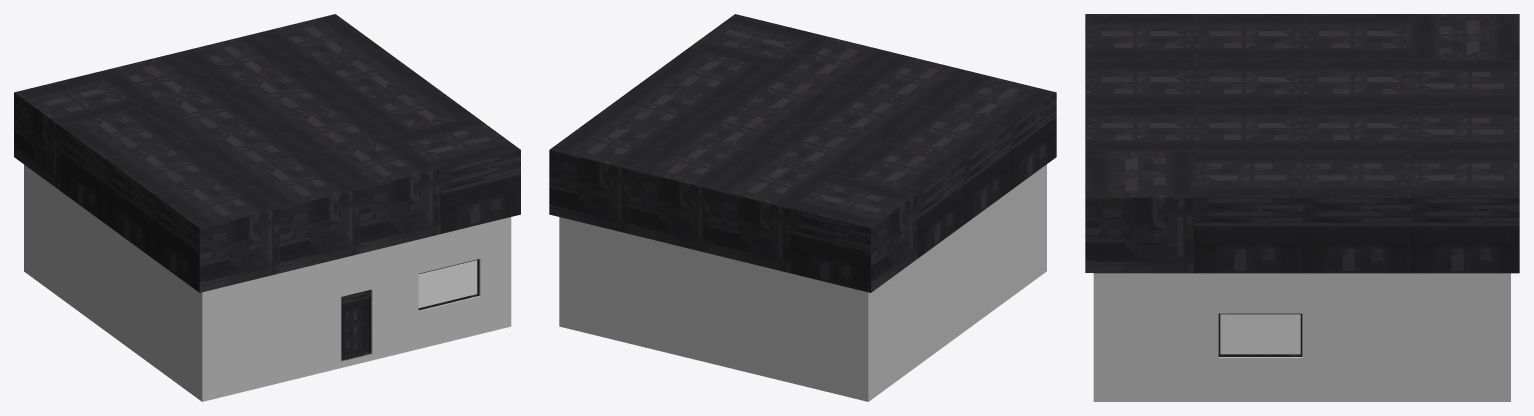
File: House1.fbx
3 views of the same model, side by side, from view 1: azimuth 30°, elevation 25°; view 2: azimuth 150°, elevation 25°; view 3: azimuth 270°, elevation 25° (orthographic). The views are drawn at different scales.
Visible parts, largest first — view 1: House1, Window1, Door1; view 2: House1; view 3: House1, Window1_2.
Part boxes in pixels (box(x1,y1,x2,y2)): House1: box(14, 14, 520, 401); Window1: box(418, 259, 479, 310); Door1: box(342, 291, 368, 357); House1: box(549, 14, 1056, 401); House1: box(1085, 14, 1519, 401); Window1_2: box(1218, 313, 1302, 356).
Size of the model in its own units: 10.41 by 5.5 by 10.41.
